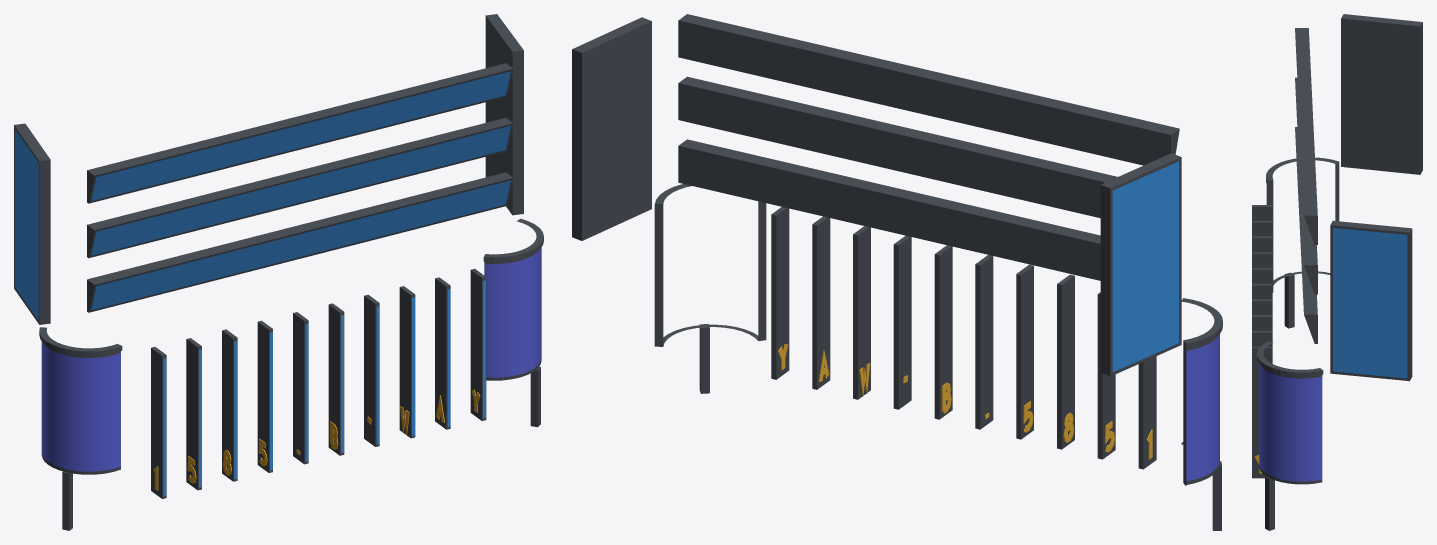
File: nyc-morgan-stanley-tickers.glb
3 views of the same model, side by side, from view 1: azimuth 30°, elevation 25°; view 2: azimuth 150°, elevation 25°; view 3: azimuth 270°, elevation 25° (orthographic). The views are drawn at different scales.
Parts seen in each view (by area): view 1: Morgan Stanley Tickers; view 2: Morgan Stanley Tickers; view 3: Morgan Stanley Tickers.
Part boxes in pixels (x1,y1,x2,y2): Morgan Stanley Tickers: [14, 14, 543, 530]; Morgan Stanley Tickers: [572, 14, 1222, 530]; Morgan Stanley Tickers: [1252, 14, 1422, 530].
Bounding box in the file's own units: 59.15 × 38.6 × 19.18.
